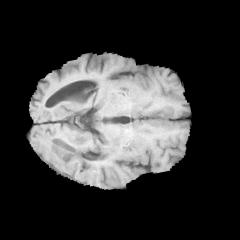glioma: (39, 137, 99, 185)
